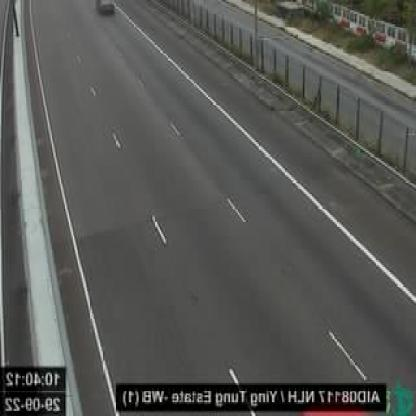Car: (97, 0, 115, 21)
